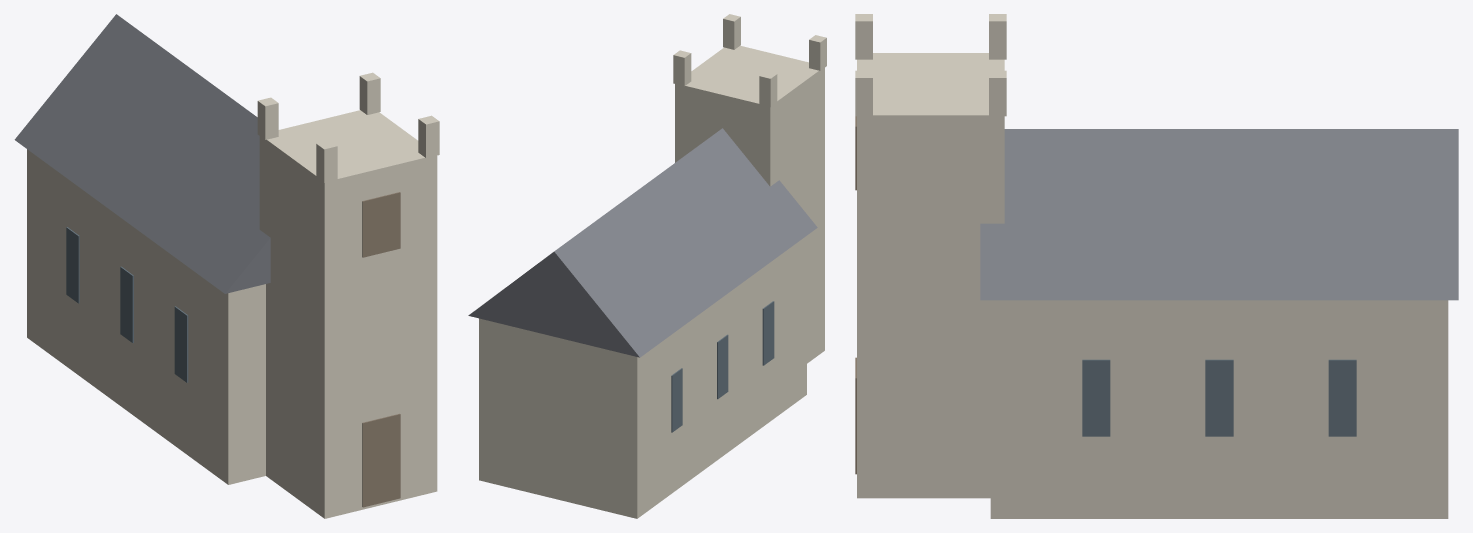
Rendered from VillageChurch.glb.
The picture shows the model from 3 angles, left to right: view 1: azimuth 30°, elevation 25°; view 2: azimuth 150°, elevation 25°; view 3: azimuth 270°, elevation 25°; orthographic projection. The views are drawn at different scales.
Visible parts, largest first — view 1: Tower, Nave, Nave roof, Porch door, Belfry louvre, Lancet window, Lancet window.004, Lancet window.002, Pinnacle.001, Pinnacle.002, Pinnacle.003, Pinnacle; view 2: Nave, Nave roof, Tower, Lancet window, Lancet window.002, Lancet window.004, Pinnacle.001, Pinnacle.003, Pinnacle, Pinnacle.002; view 3: Nave, Nave roof, Tower, Lancet window.003, Lancet window.001, Lancet window.005, Pinnacle.002, Pinnacle.003, Pinnacle, Pinnacle.001.
Part boxes in pixels (x1,y1,x2,y2): Tower: [259, 110, 437, 518]; Nave: [27, 149, 265, 484]; Nave roof: [14, 14, 270, 293]; Porch door: [362, 413, 400, 507]; Belfry louvre: [362, 192, 400, 257]; Lancet window: [174, 306, 188, 382]; Lancet window.004: [66, 227, 79, 303]; Lancet window.002: [120, 266, 133, 342]; Pinnacle.001: [257, 97, 278, 139]; Pinnacle.002: [418, 115, 439, 158]; Pinnacle.003: [359, 72, 380, 114]; Pinnacle: [316, 140, 337, 182]; Nave: [479, 236, 806, 518]; Nave roof: [468, 128, 817, 357]; Tower: [675, 45, 824, 363]; Lancet window: [762, 301, 774, 365]; Lancet window.002: [717, 334, 728, 399]; Lancet window.004: [671, 368, 682, 432]; Pinnacle.001: [759, 71, 777, 107]; Pinnacle.003: [673, 50, 691, 86]; Pinnacle: [809, 35, 826, 70]; Pinnacle.002: [723, 14, 740, 49]; Nave: [990, 300, 1448, 518]; Nave roof: [980, 129, 1458, 300]; Tower: [857, 53, 1004, 498]; Lancet window.003: [1205, 359, 1233, 436]; Lancet window.001: [1082, 359, 1110, 436]; Lancet window.005: [1328, 359, 1356, 436]; Pinnacle.002: [855, 70, 872, 116]; Pinnacle.003: [989, 70, 1006, 116]; Pinnacle: [855, 14, 872, 59]; Pinnacle.001: [989, 14, 1006, 59].
Size of the model in its own units: 7.6 by 13.2 by 17.15.
